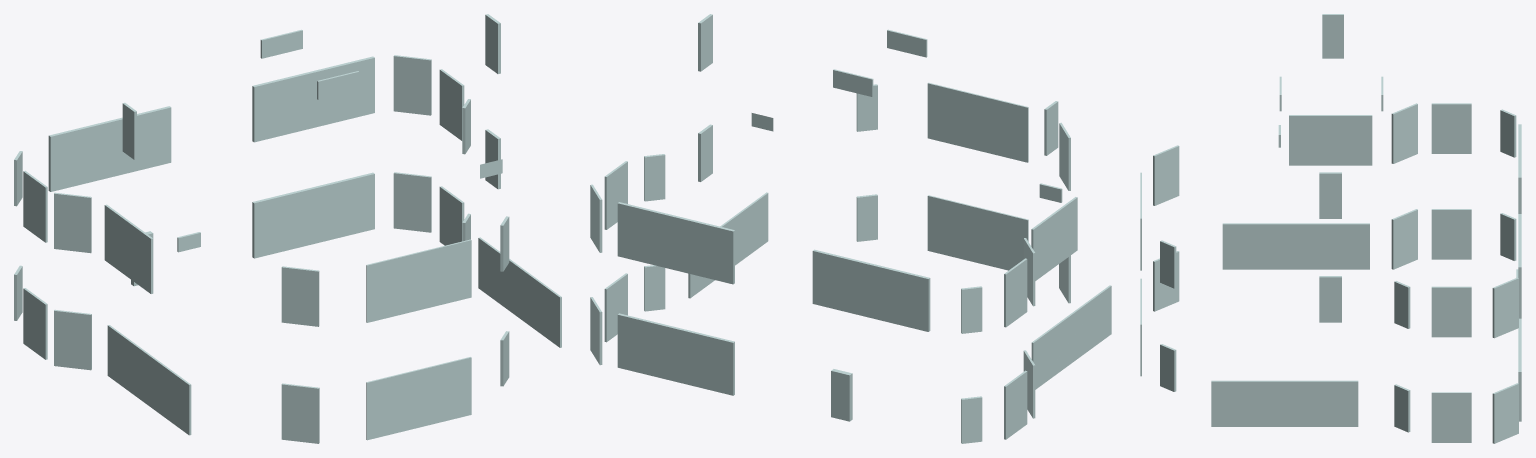
Rendered from Window_Stone_Mansion.fbx.
3 renders of one model, left to right at view 1: azimuth 30°, elevation 25°; view 2: azimuth 150°, elevation 25°; view 3: azimuth 270°, elevation 25°, orthographic. The views are drawn at different scales.
Visible parts, largest first — view 1: Window_Stone_Mansion; view 2: Window_Stone_Mansion; view 3: Window_Stone_Mansion.
Part boxes in pixels (x1,y1,x2,y2): Window_Stone_Mansion: (14, 14, 561, 443); Window_Stone_Mansion: (590, 14, 1111, 443); Window_Stone_Mansion: (1140, 14, 1521, 443).
Bounding box in the file's own units: 1594 × 1068 × 1387.
